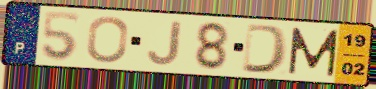5: (42, 9, 83, 64)
8: (194, 20, 232, 71)
D: (239, 22, 291, 75)
J: (146, 20, 184, 67)
M: (286, 26, 341, 78)
O: (85, 15, 131, 64)
